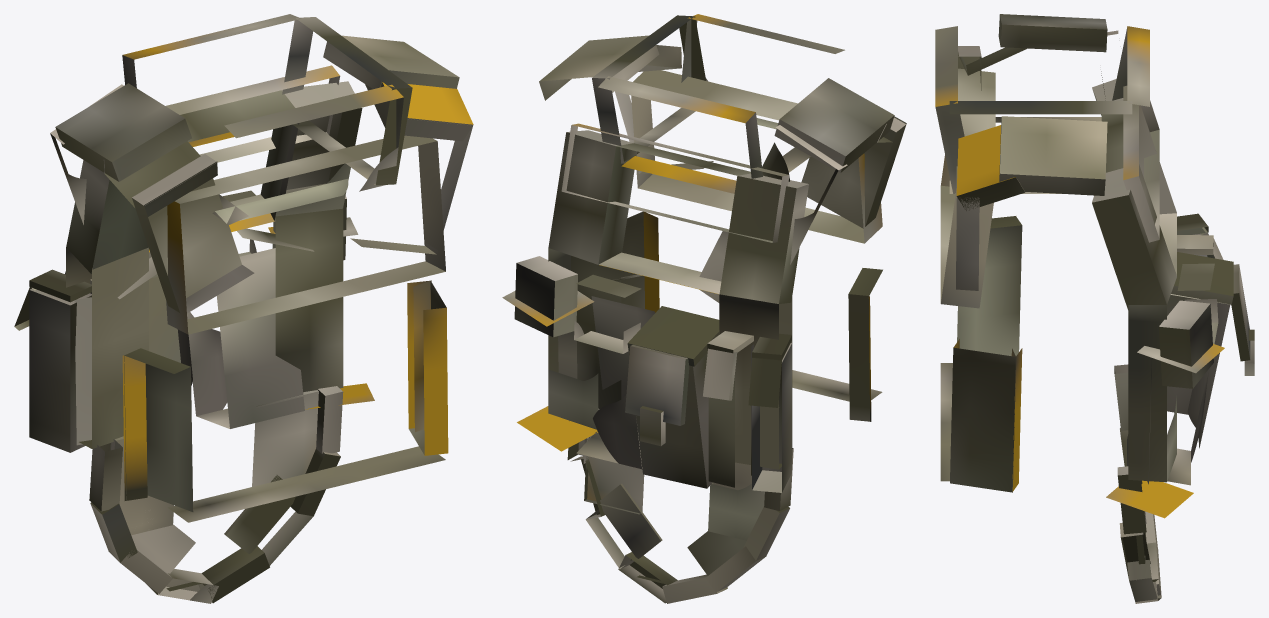
File: ukrainian_mobilized.obj
3 renders of one model, left to right at view 1: azimuth 30°, elevation 25°; view 2: azimuth 150°, elevation 25°; view 3: azimuth 270°, elevation 25°, orthographic. The views are drawn at different scales.
Visible parts, largest first — view 1: cube; view 2: cube; view 3: cube.
Part boxes in pixels (box(x1,y1,x2,y2)): cube: box(14, 14, 473, 603); cube: box(502, 14, 906, 603); cube: box(935, 14, 1254, 603).
Bounding box in the file's own units: 0.7271 × 1.13 × 0.6118.
